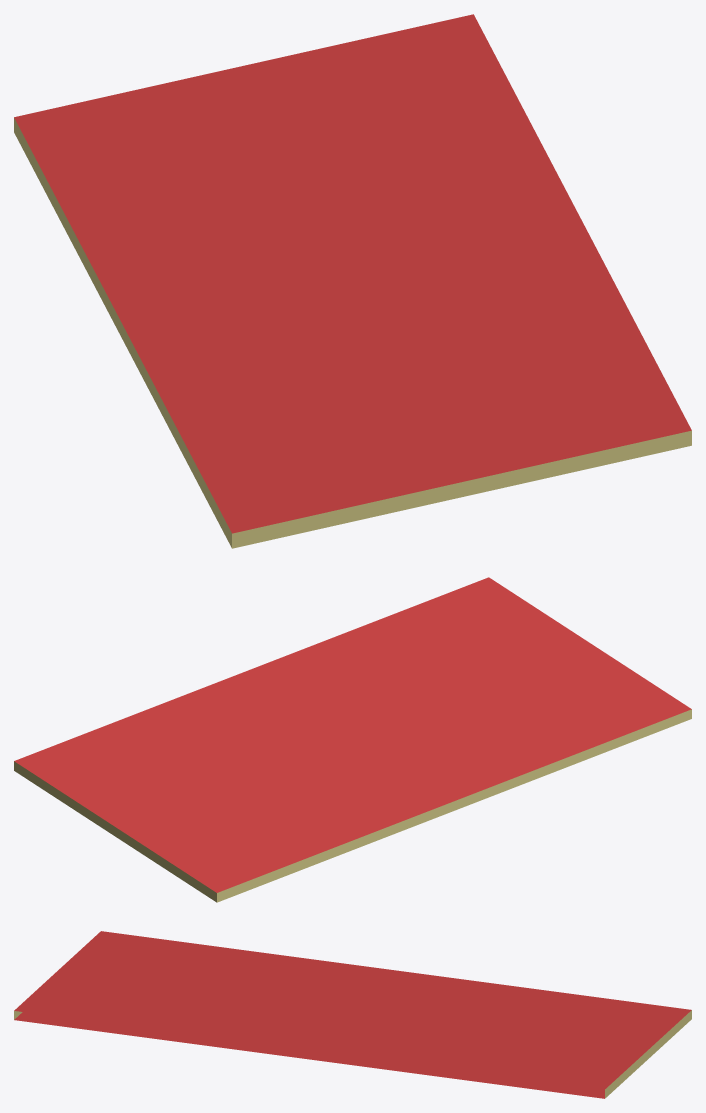
The picture shows the model from 3 angles, top to bottom: view 1: azimuth 30°, elevation 25°; view 2: azimuth 150°, elevation 25°; view 3: azimuth 270°, elevation 25°; orthographic projection. The views are drawn at different scales.
Bounding box in the file's own units: 4.51 × 6.62 × 0.497.
